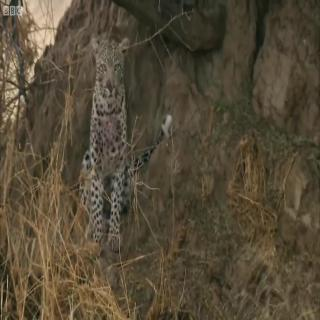Leopard: (66, 28, 154, 250)
